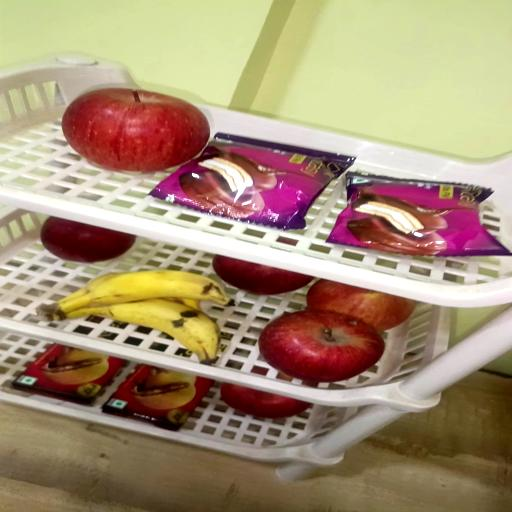Apple: (62, 88, 210, 173), (258, 310, 384, 383), (307, 279, 415, 331), (41, 217, 136, 263), (212, 255, 314, 295), (221, 383, 311, 418)
Choco Fills: (102, 365, 213, 430), (11, 344, 127, 405)
Choco Pie: (150, 133, 355, 229), (328, 173, 510, 257)
